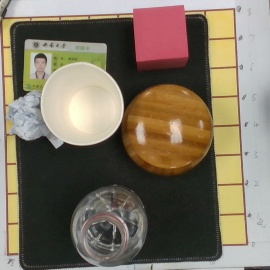bottle: (68, 179, 149, 265)
card: (22, 35, 109, 93)
chess: (122, 81, 214, 178)
cup: (41, 64, 124, 146)
